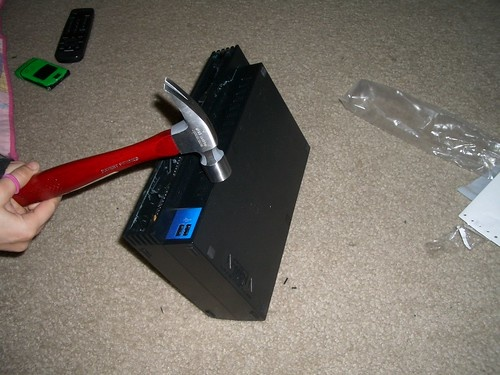hammer: (1, 74, 232, 200)
